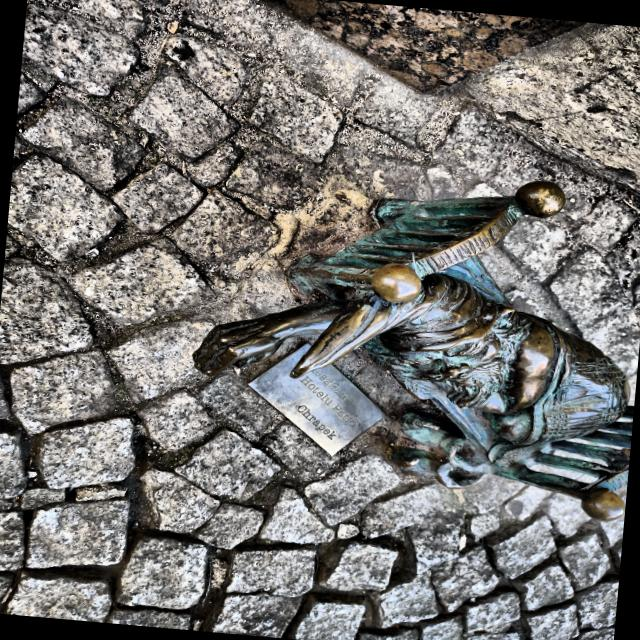Chrapek: (193, 181, 628, 519)
